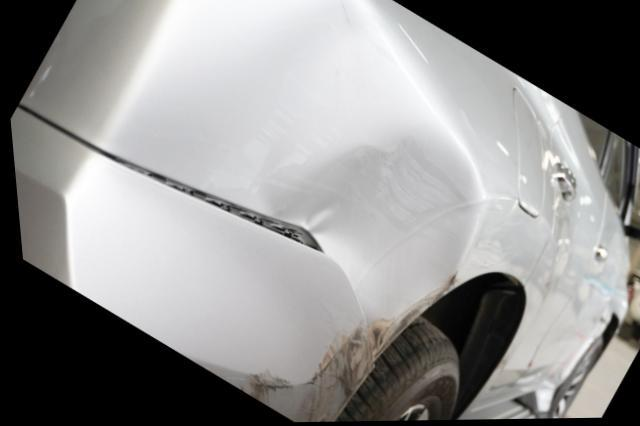dent: (107, 0, 482, 322)
scratch: (227, 319, 372, 423), (363, 289, 441, 354)
